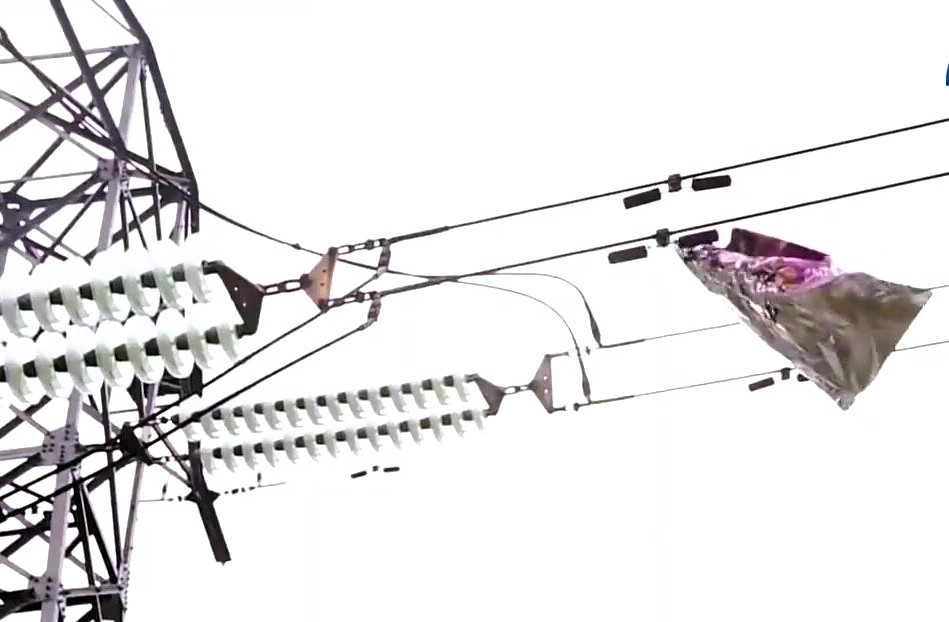wire foreign body: (668, 217, 932, 415)
